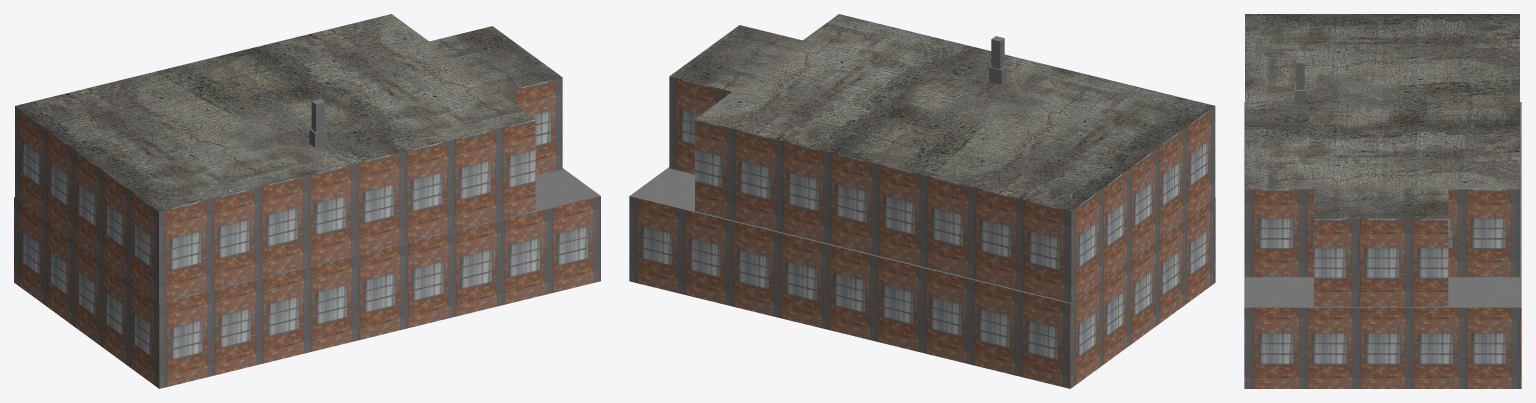
The model's file is LOD01_Building_2Stores_StockOffice.obj.
The picture shows the model from 3 angles, left to right: view 1: azimuth 30°, elevation 25°; view 2: azimuth 150°, elevation 25°; view 3: azimuth 270°, elevation 25°; orthographic projection. The views are drawn at different scales.
Visible parts, largest first — view 1: LOD01_Building_2Stores_StockOffice; view 2: LOD01_Building_2Stores_StockOffice; view 3: LOD01_Building_2Stores_StockOffice.
Part boxes in pixels (x1,y1,x2,y2): LOD01_Building_2Stores_StockOffice: (14, 14, 600, 388); LOD01_Building_2Stores_StockOffice: (629, 14, 1215, 388); LOD01_Building_2Stores_StockOffice: (1244, 14, 1521, 388).
Bounding box in the file's own units: 9.16 × 4.35 × 5.22.
